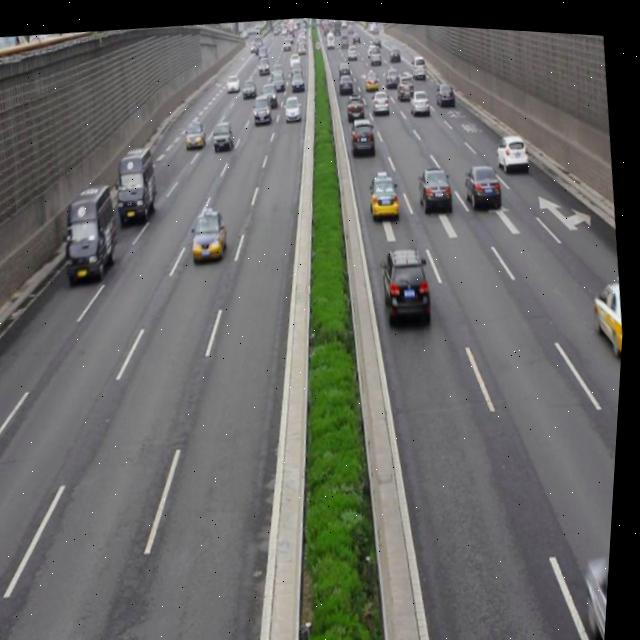car: (379, 235, 439, 324), (589, 268, 629, 350), (584, 540, 616, 635), (188, 204, 231, 260), (416, 156, 457, 210), (463, 154, 506, 205), (366, 164, 403, 216), (493, 123, 531, 167), (211, 116, 237, 150), (183, 115, 209, 147), (408, 80, 432, 112)
truck: (59, 179, 126, 284), (113, 143, 163, 222), (349, 109, 379, 155)
